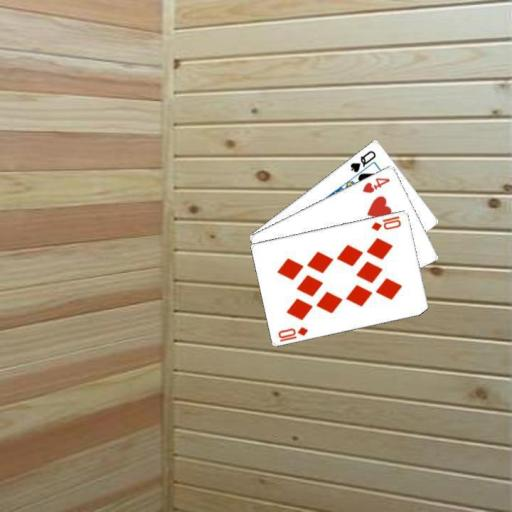card-corner: (347, 147, 378, 174), (368, 212, 402, 232), (359, 174, 392, 194), (275, 324, 310, 342)
